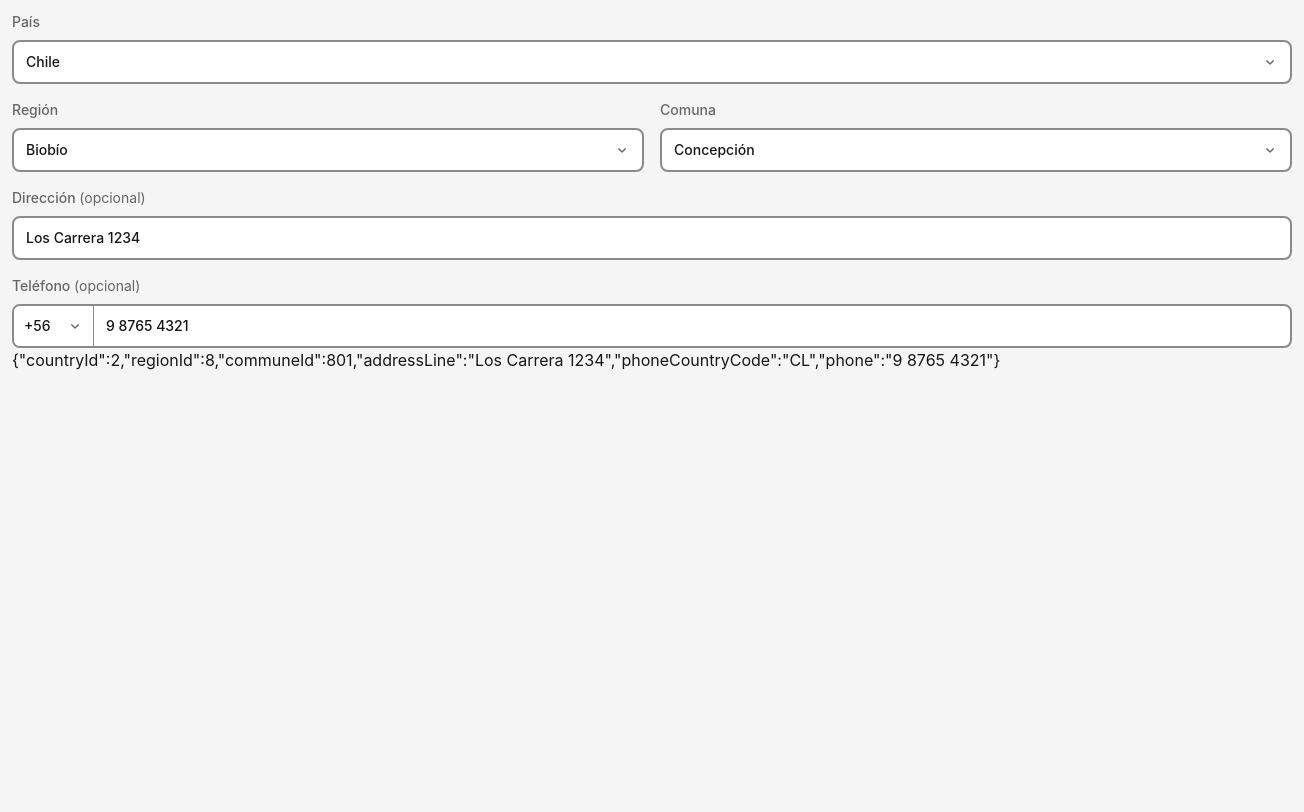
Test: prepareUserContactPayload › changing the phone country clears only the phone
Click the button named "País del teléfono" at [54, 326], box [14, 306, 94, 346]
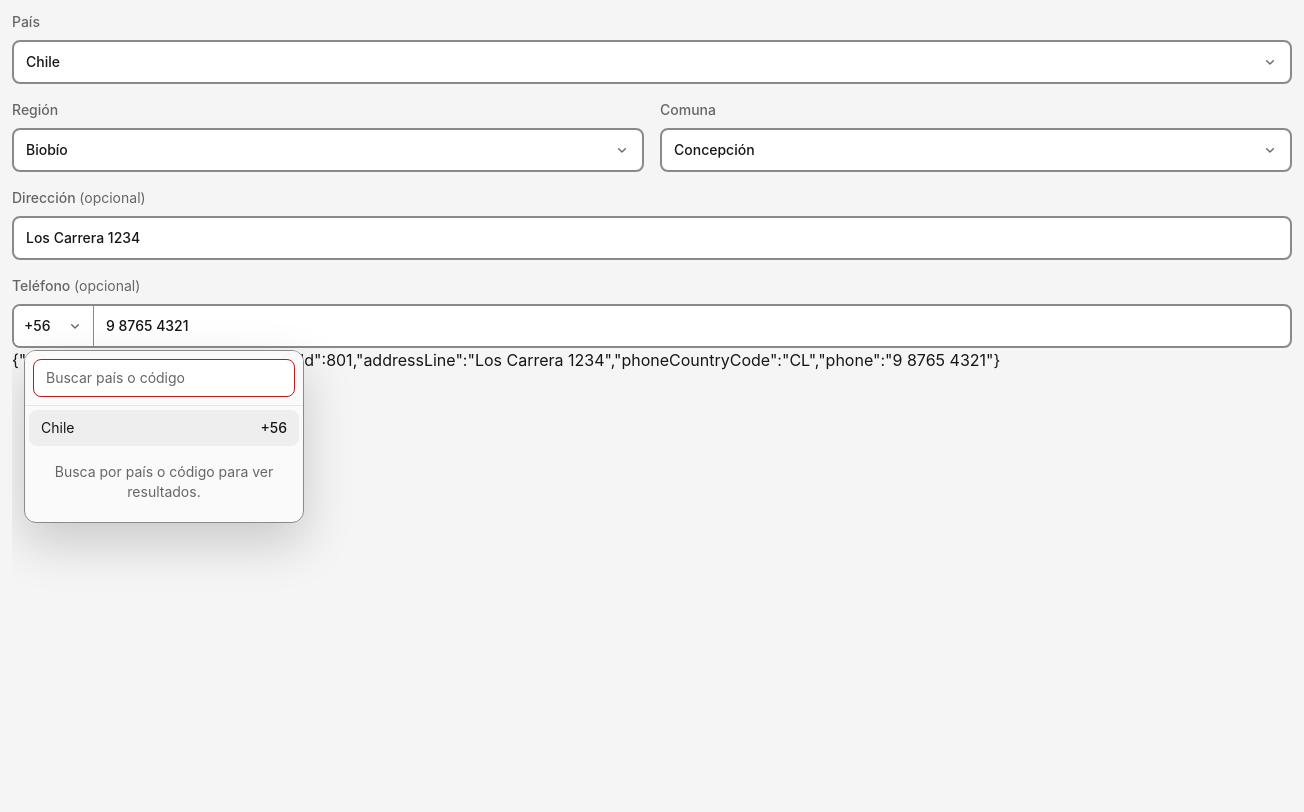
Type "Estados Unidos" into the search field named "Buscar país del teléfono" at [164, 378], box [33, 359, 295, 397]
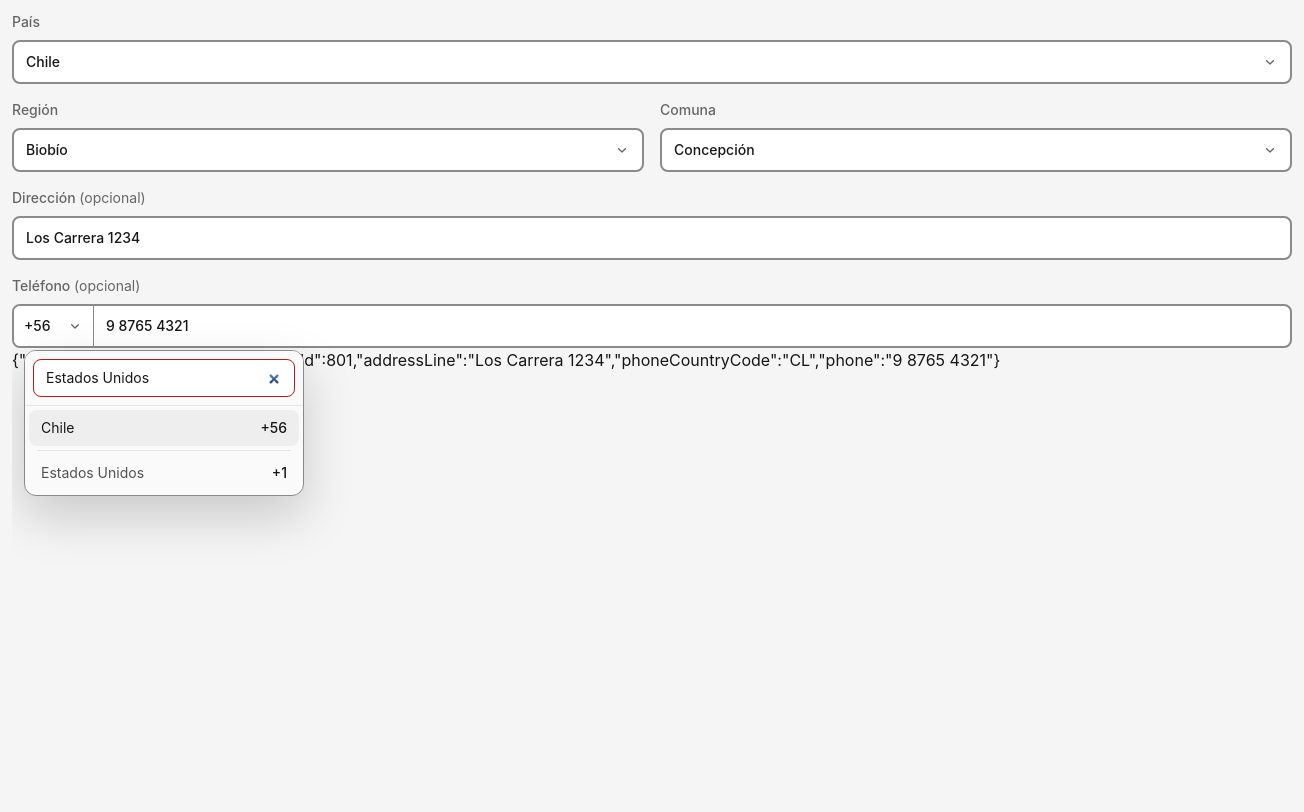
Click the option with aria-label "Estados Unidos (+1)" at [93, 472], box [29, 455, 299, 491]
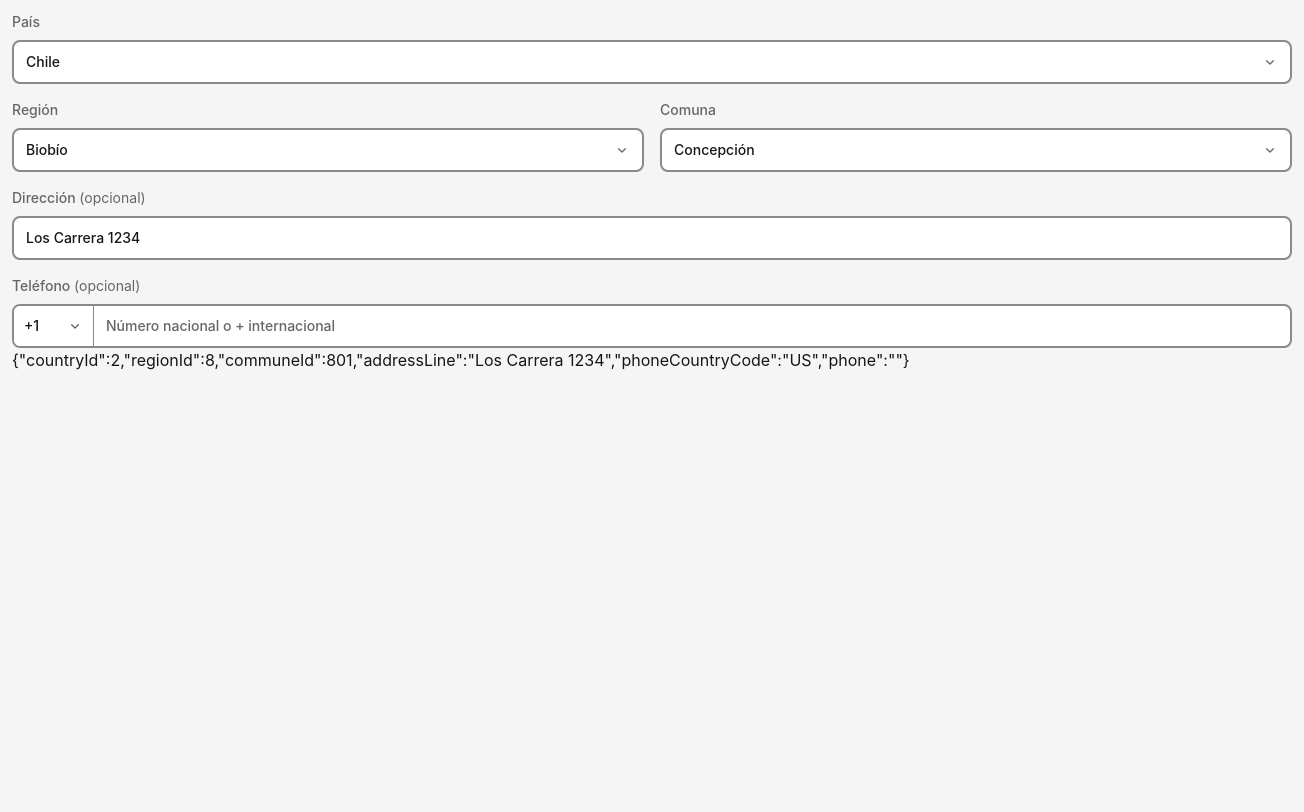
Expected: the field labelled "Teléfono (opcional)" is empty, [94, 306, 1290, 346]
Expected: the text with test id "contact-state" shows "\"countryId\":2,\"regionId\":8,\"communeId\":801,\"addressLine\":\"Los Carrera 1234\",\"phoneCountryCode\":\"US\",\"phone\":\"\"", [12, 350, 910, 370]
